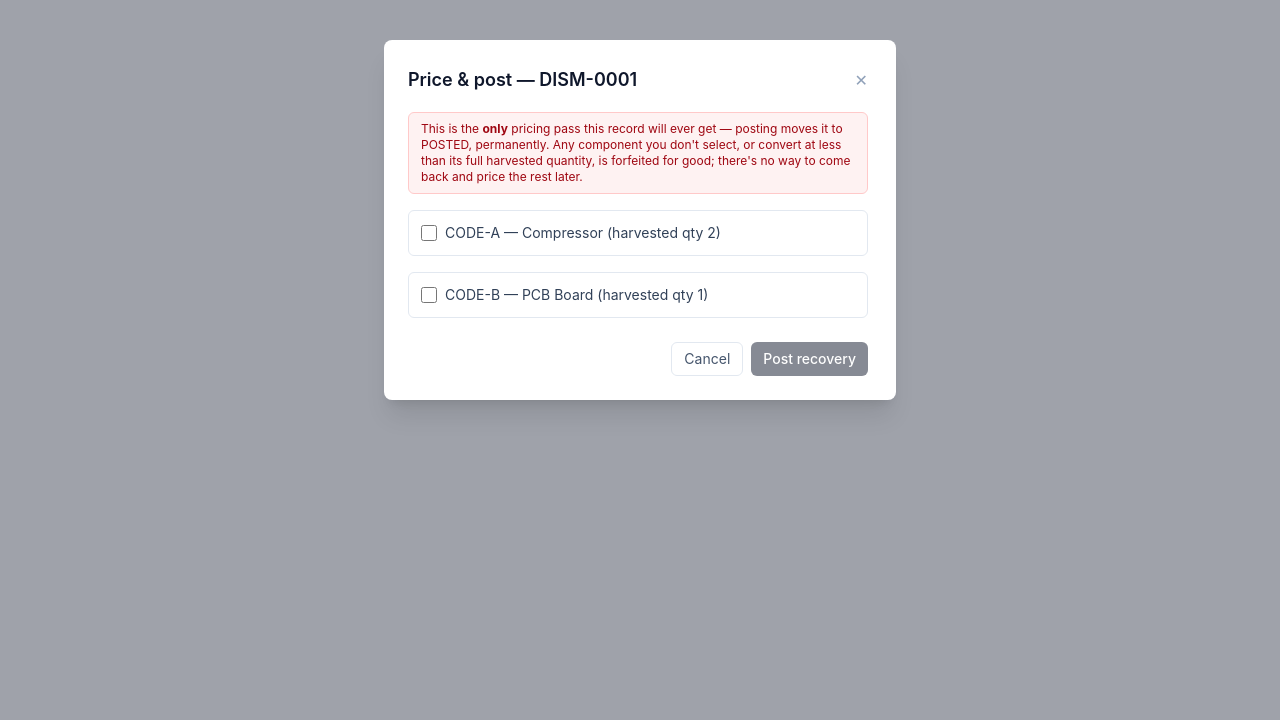
Test case: PriceAndPostModal - finality (the-fool finding #2) › requires the forfeit-confirmation checkbox before submit enables when only a subset is selected
Click the checkbox labelled "CODE-A — Compressor (harvested qty 2)" at (429, 233), box x1=421 y1=225 x2=437 y2=241
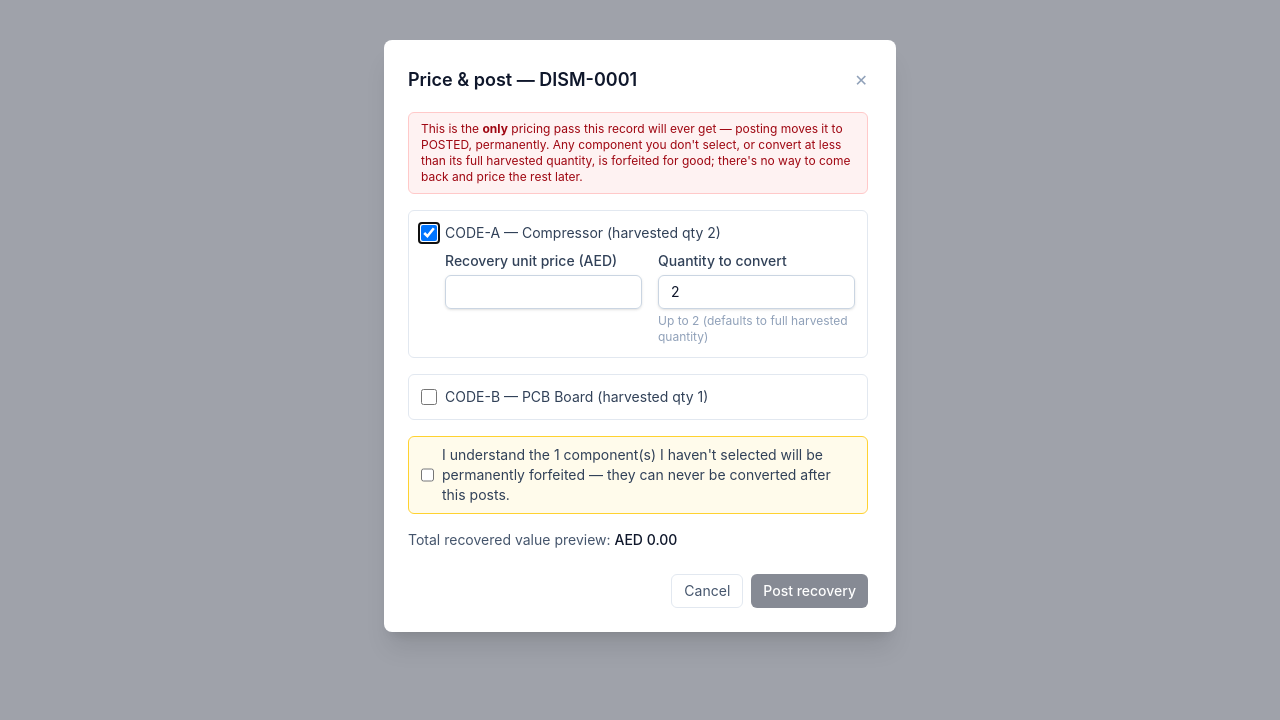
Type "85" into the number field labelled "Recovery unit price (AED)" at (544, 292), box x1=445 y1=275 x2=642 y2=309
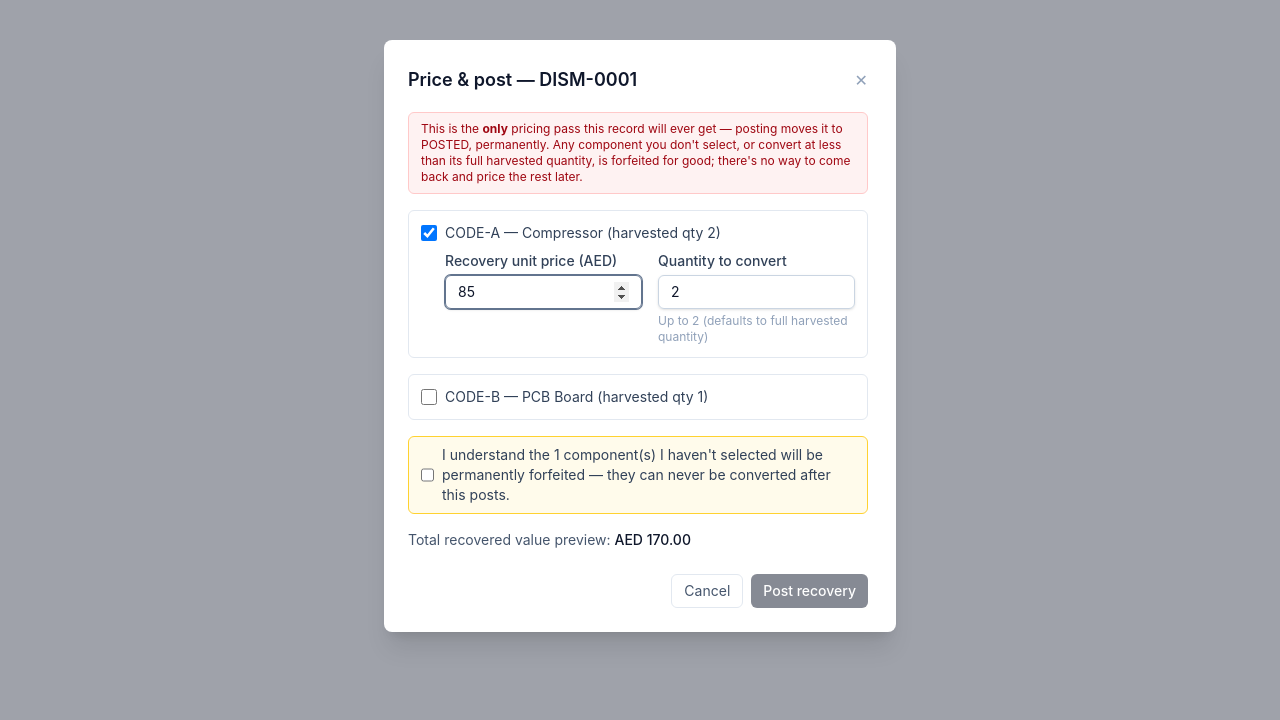
Check: the button "Post recovery" is disabled, box x1=751 y1=574 x2=868 y2=608
Check: the text "I understand the 1 component(s) I haven't selected will be permanently forfeited" is shown, box x1=442 y1=446 x2=831 y2=503
Click the checkbox labelled "I understand" at (428, 475), box x1=421 y1=467 x2=434 y2=483
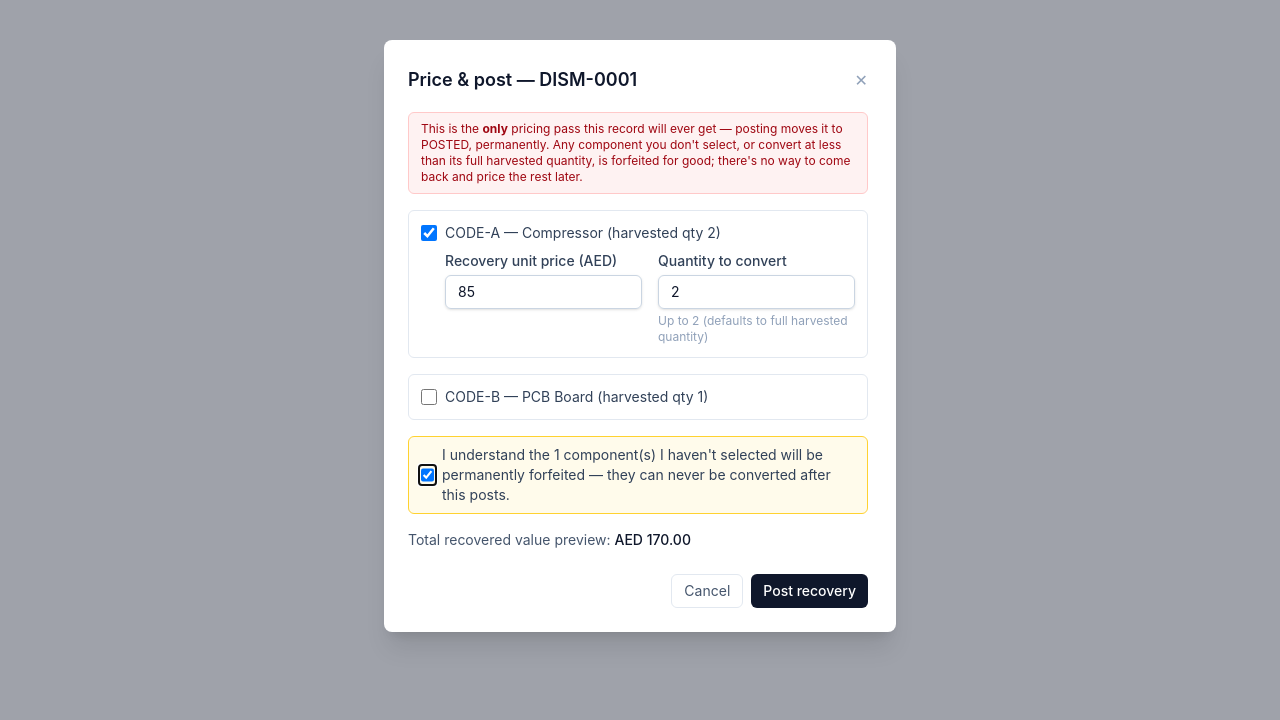
Check: the button "Post recovery" is enabled, box x1=751 y1=574 x2=868 y2=608
